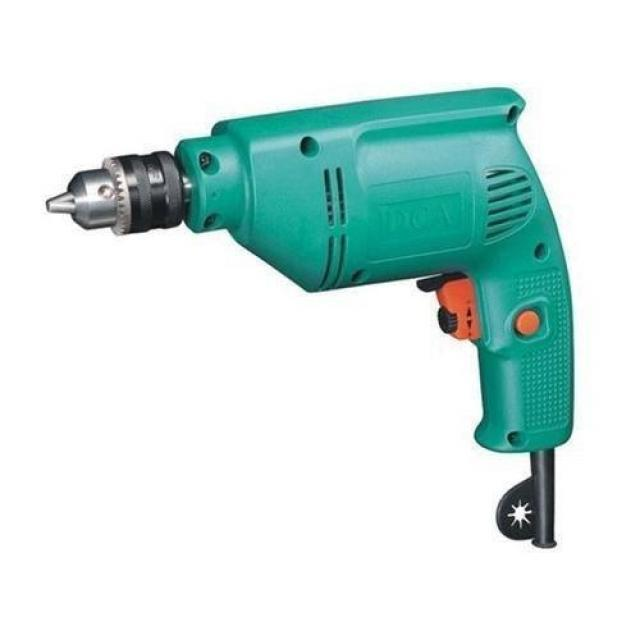drill: (46, 87, 576, 549)
